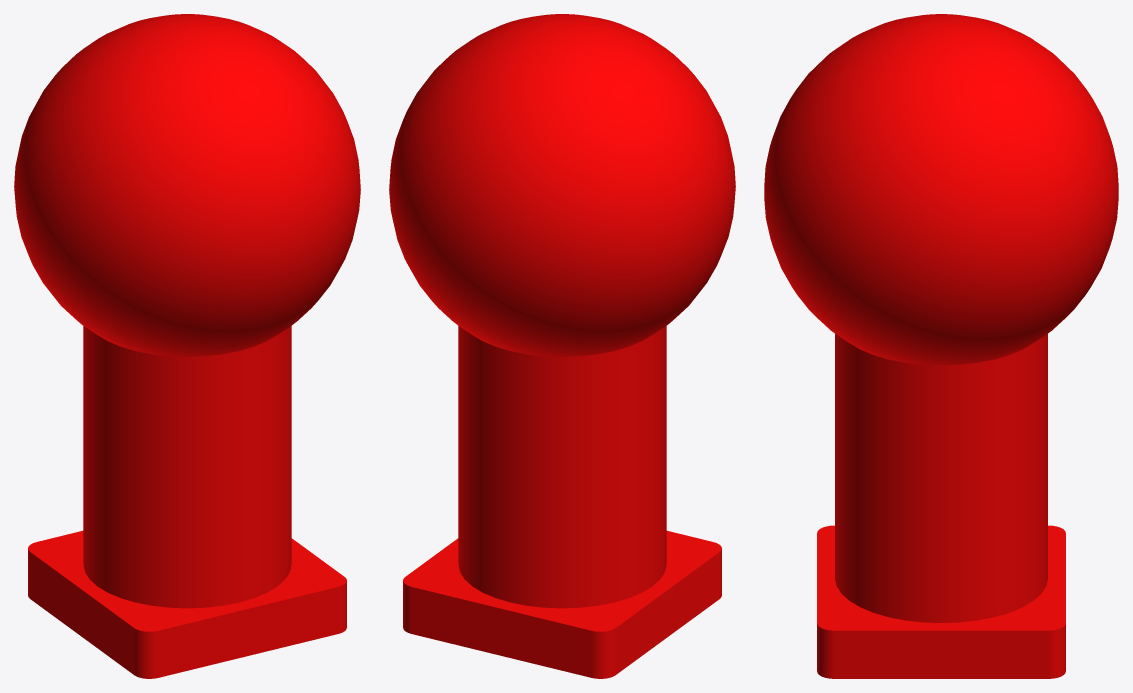
Rendered from Cube 1x1 V5_Baseplate V5 Press.obj.
The picture shows the model from 3 angles, left to right: view 1: azimuth 30°, elevation 25°; view 2: azimuth 150°, elevation 25°; view 3: azimuth 270°, elevation 25°; orthographic projection. The views are drawn at different scales.
Parts seen in each view (by area): view 1: Solid1:8; view 2: Solid1:8; view 3: Solid1:8.
Boxes of the visible parts, x1,y1,x2,y2 form: Solid1:8: (14,14,360,678); Solid1:8: (389,14,735,678); Solid1:8: (764,14,1118,678).
Size of the model in its own units: 50 by 92.5 by 49.88.
